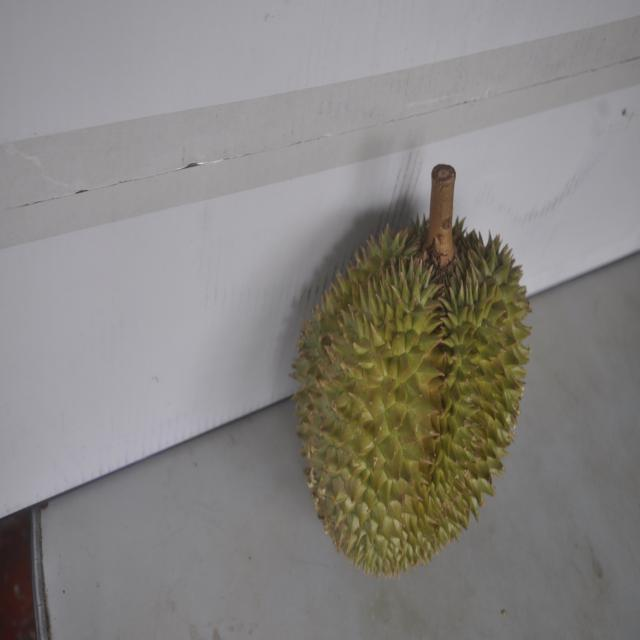mature: (301, 168, 534, 574)
